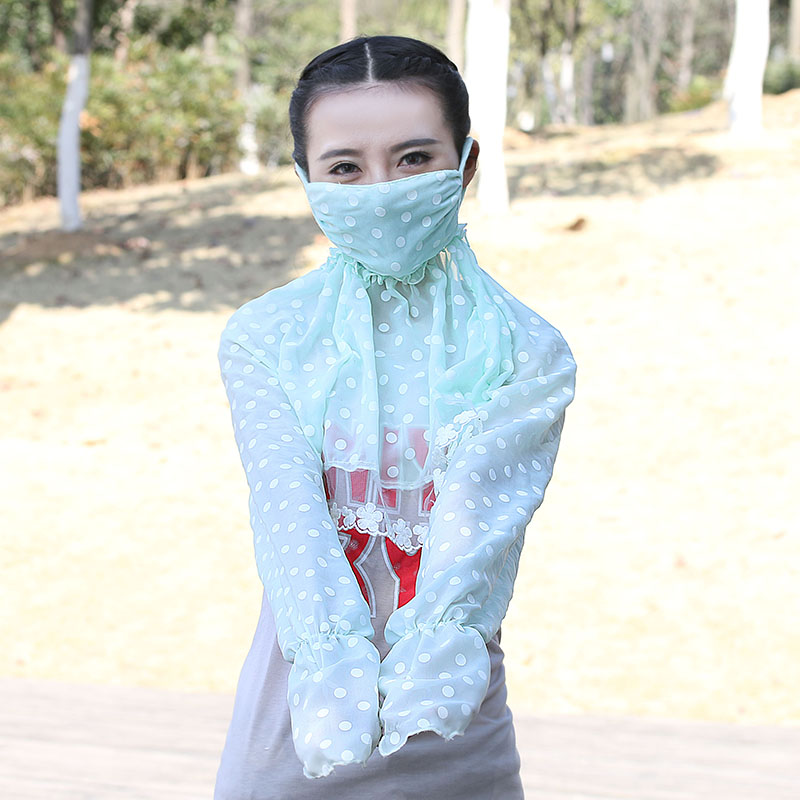face_mask: (304, 80, 458, 274)
